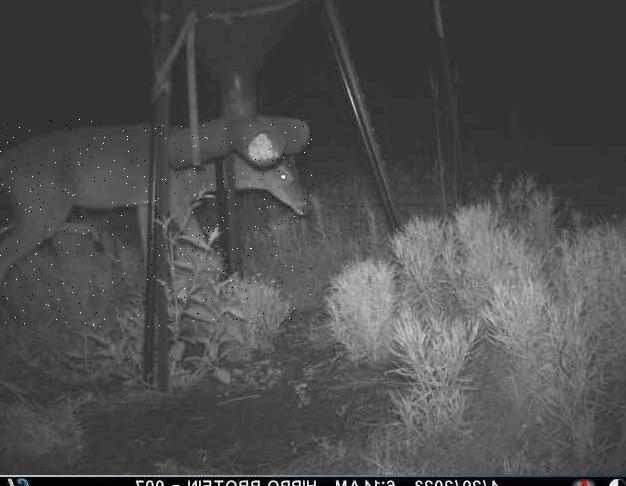Deer: (0, 119, 314, 327)
